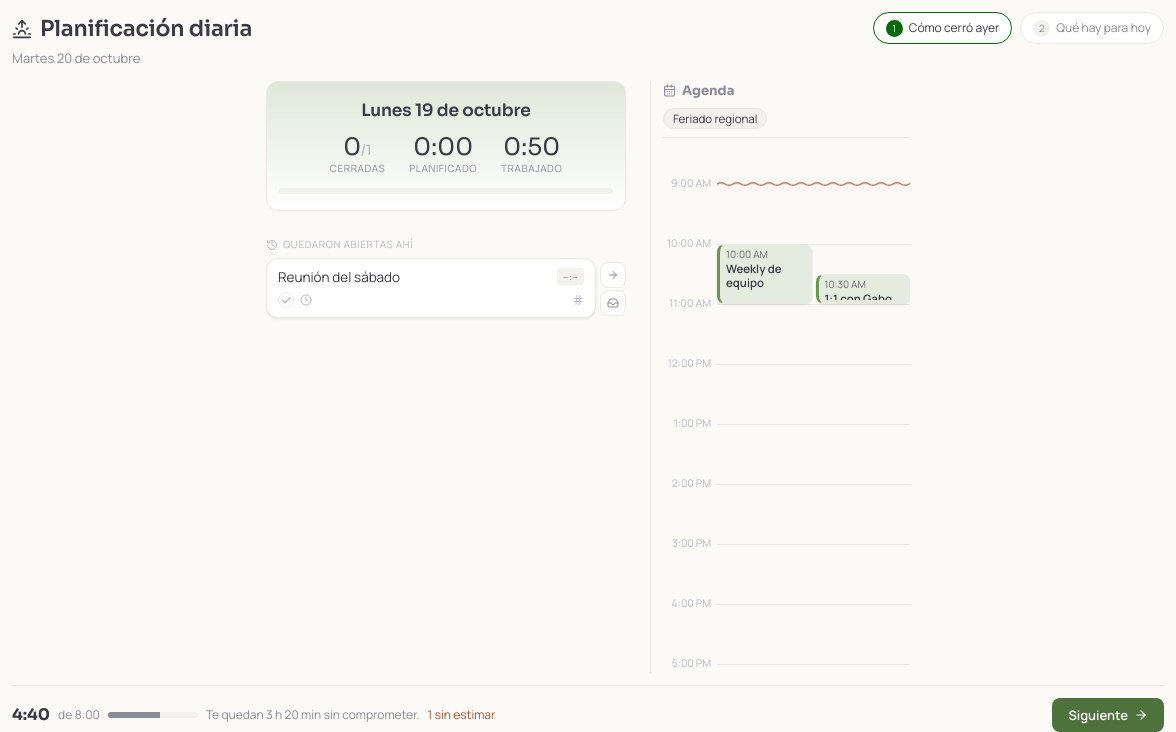
Test case: DailyPlanningView › trae a hoy lo que quedó abierto, que es lo que el carry-over no toca
This screenshot has width=1176, height=732.
(page scrolled)
Click the button named "Traer Reunión del sábado" at (613, 275), box [600,262,626,288]
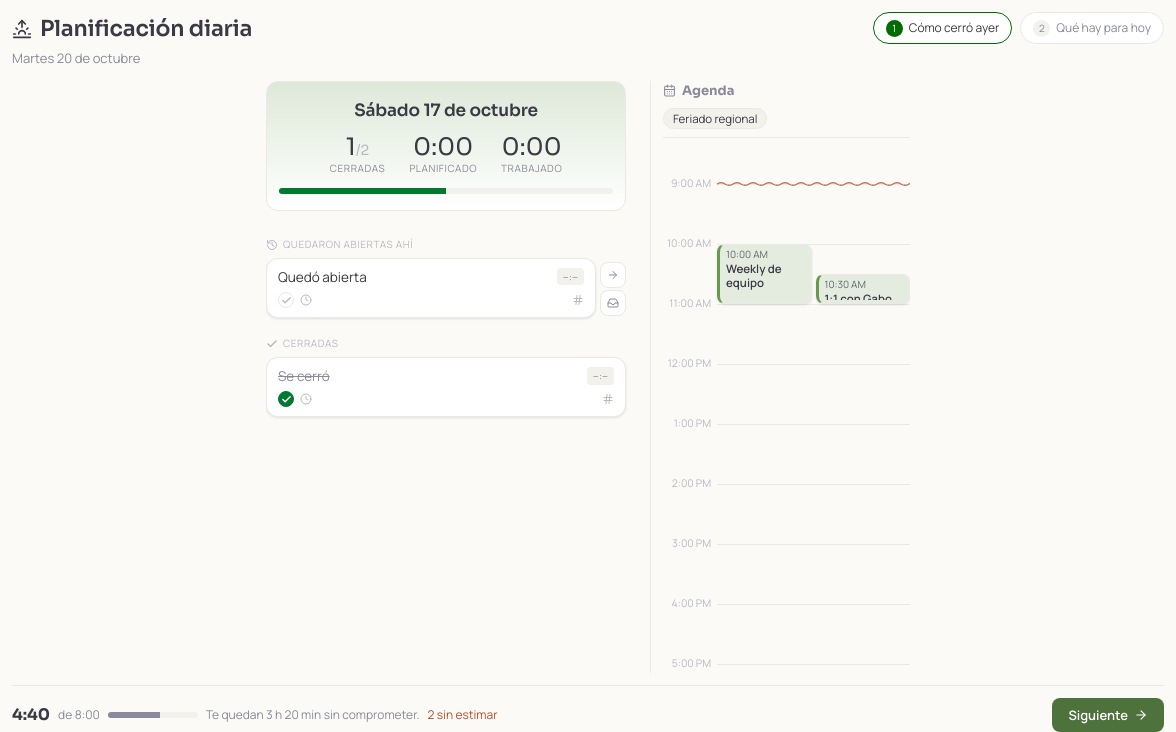
Click the button "2 Qué hay para hoy" at (1092, 28), box [1020,12,1164,44]
(page scrolled)
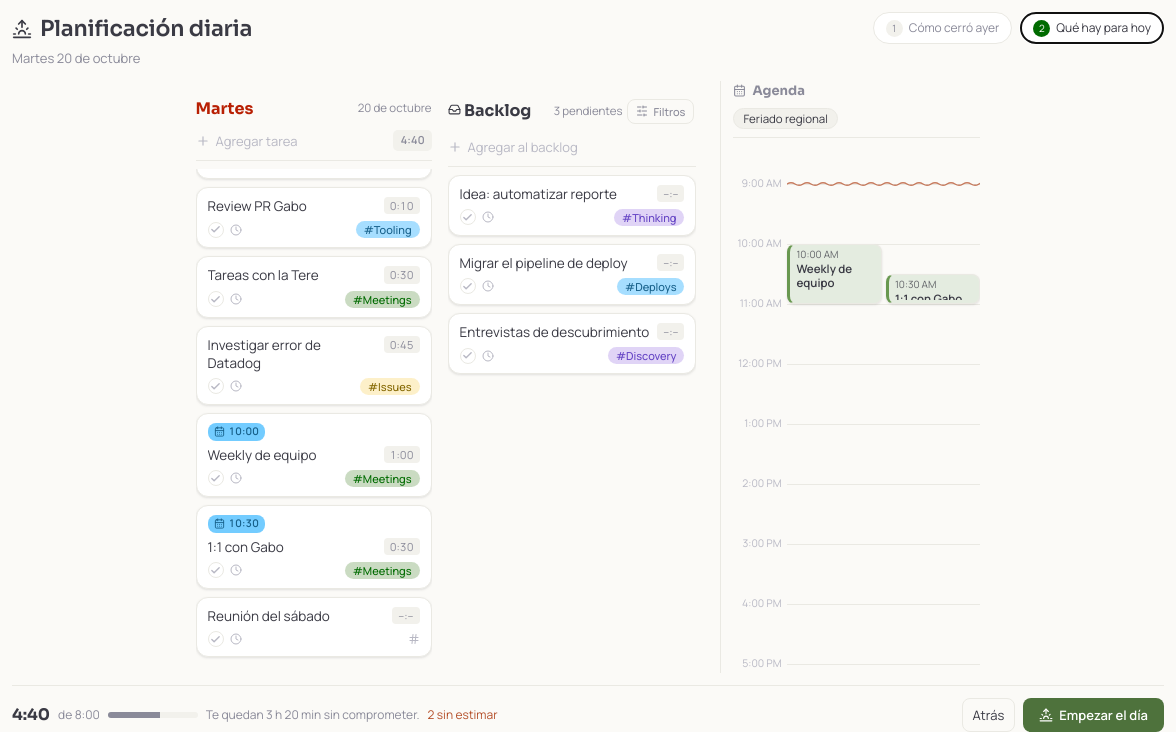
expect the text "Reunión del sábado" is shown: met, box [208,607,330,625]
